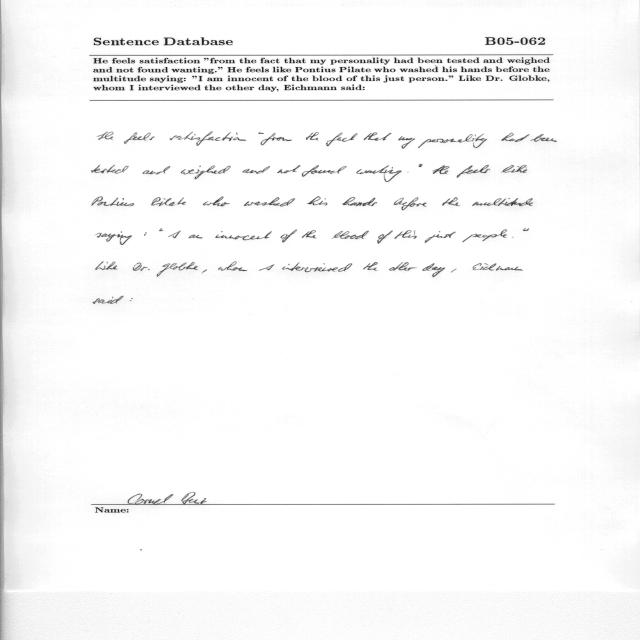word: (170, 132, 246, 146), (418, 134, 487, 148), (356, 165, 402, 182), (181, 166, 231, 180), (283, 262, 353, 272), (157, 262, 199, 277), (463, 230, 508, 243), (302, 165, 347, 177), (215, 231, 272, 240), (244, 197, 295, 207), (96, 231, 132, 245), (472, 198, 533, 206), (326, 133, 358, 147), (457, 165, 490, 178), (394, 198, 427, 211), (472, 263, 523, 271), (92, 197, 134, 206), (124, 132, 155, 144), (261, 133, 292, 145), (425, 231, 456, 243), (92, 165, 129, 174), (422, 263, 445, 277), (151, 198, 186, 207), (342, 197, 377, 206), (332, 231, 369, 239), (218, 262, 247, 272), (203, 197, 230, 207), (501, 133, 530, 142), (389, 262, 417, 271), (364, 132, 391, 141), (94, 296, 124, 304), (143, 166, 171, 174), (243, 166, 271, 174), (398, 136, 415, 149), (281, 230, 298, 243), (530, 134, 557, 142), (501, 165, 527, 173), (377, 231, 393, 244), (394, 230, 417, 239), (96, 261, 117, 270), (278, 165, 301, 173), (432, 166, 450, 175), (442, 197, 460, 206), (307, 197, 327, 205), (133, 263, 150, 271), (363, 262, 378, 271), (99, 132, 114, 140), (302, 230, 317, 238), (259, 264, 274, 271), (306, 132, 319, 140), (168, 231, 181, 238), (189, 235, 203, 239), (451, 269, 457, 273), (202, 270, 207, 274), (523, 228, 529, 231), (258, 132, 264, 134), (419, 164, 423, 167), (144, 232, 147, 236), (159, 228, 163, 231), (130, 298, 133, 301), (512, 237, 513, 238), (407, 172, 409, 172)
